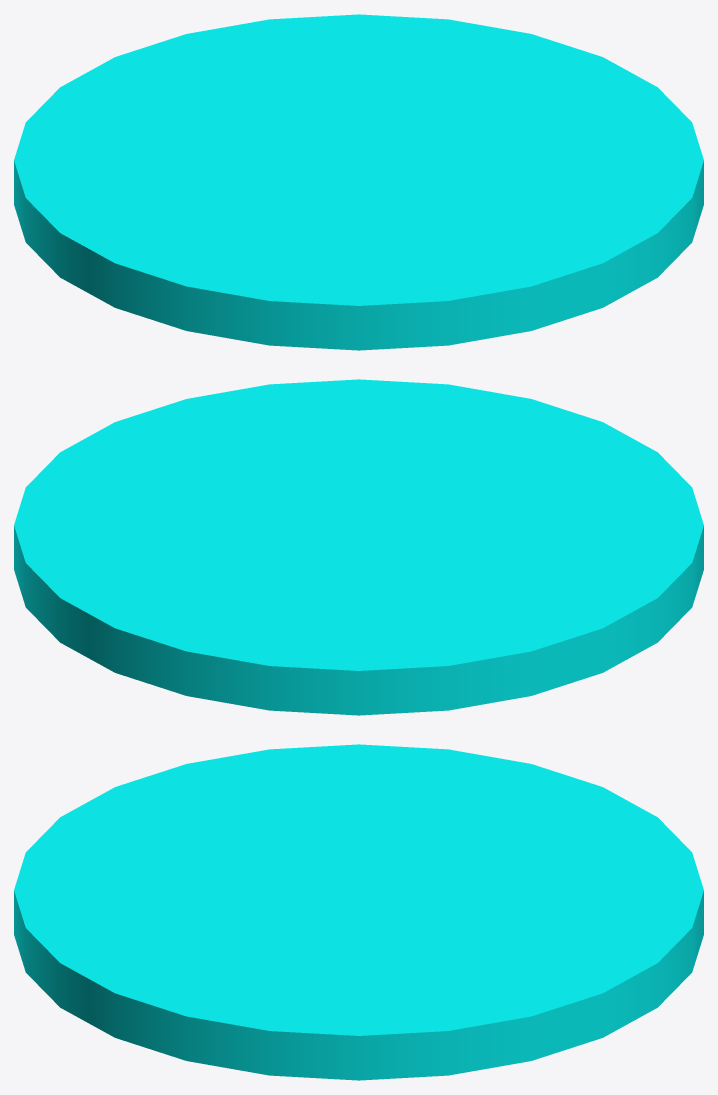
Rendered from ConeBase-1-7-1.fbx.
The picture shows the model from 3 angles, top to bottom: view 1: azimuth 30°, elevation 25°; view 2: azimuth 150°, elevation 25°; view 3: azimuth 270°, elevation 25°; orthographic projection.
Parts seen in each view (by area): view 1: Model; view 2: Model; view 3: Model.
Boxes of the visible parts, x1,y1,x2,y2 form: Model: (14, 14, 703, 350); Model: (14, 379, 703, 715); Model: (14, 744, 703, 1080).
Bounding box in the file's own units: 5.53 × 0.3937 × 5.53.
